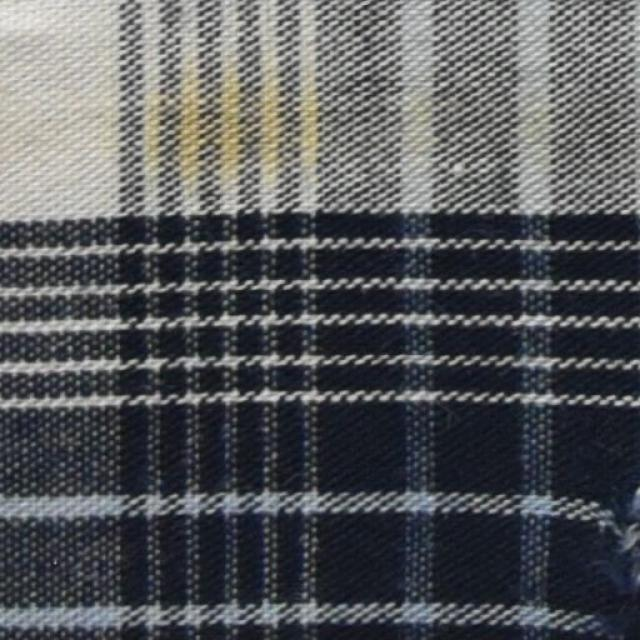Stain: (135, 78, 323, 186)
